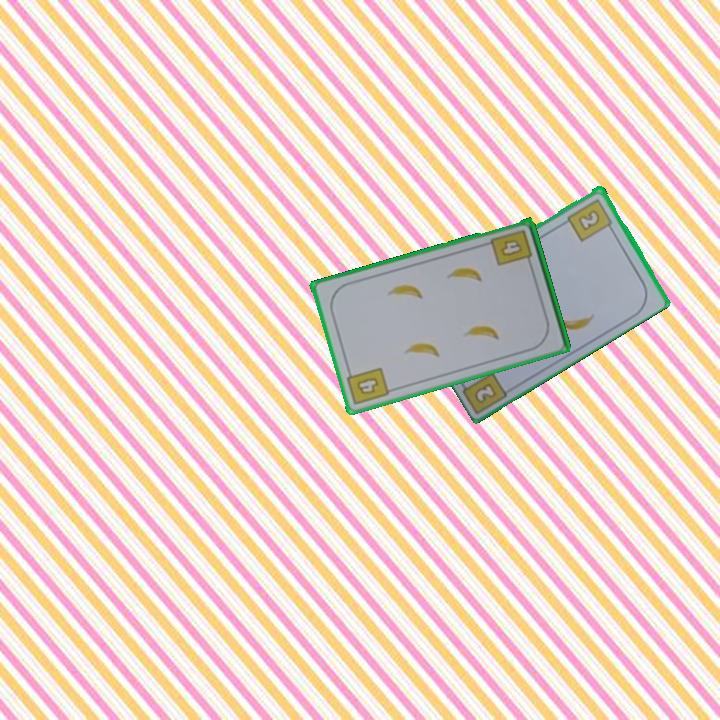2b: (564, 195, 616, 244), (471, 379, 500, 406)
4b: (343, 364, 392, 408), (487, 226, 535, 269)
